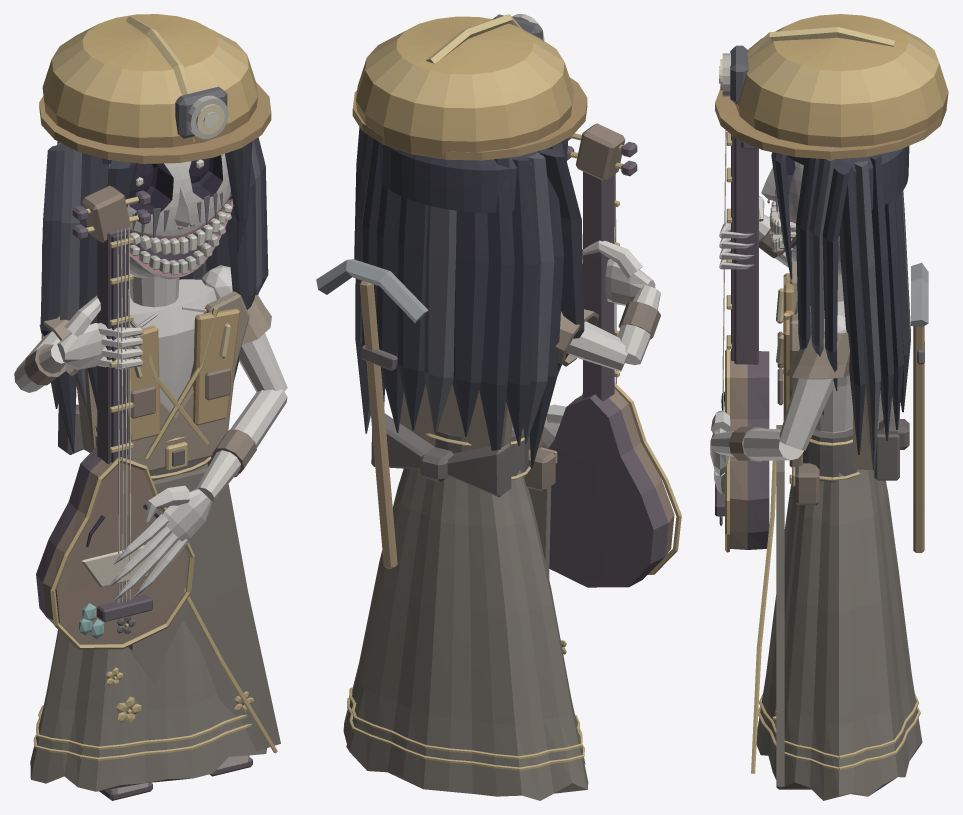
The model's file is MimicMiner.glb.
3 views of the same model, side by side, from view 1: azimuth 30°, elevation 25°; view 2: azimuth 150°, elevation 25°; view 3: azimuth 270°, elevation 25° (orthographic).
Parts seen in each view (by area): view 1: Body, Head, ArmL, ArmR, LegR, LegL; view 2: Body, Head, ArmR; view 3: Body, Head, ArmL, ArmR.
Part boxes in pixels (x1,y1,x2,y2): Body: (30, 185, 280, 791); Head: (39, 14, 271, 452); ArmL: (107, 265, 287, 602); ArmR: (14, 296, 143, 392); LegR: (99, 782, 152, 800); LegL: (209, 755, 252, 776); Body: (316, 123, 681, 800); Head: (352, 14, 587, 468); ArmR: (555, 240, 660, 371); Body: (715, 130, 928, 800); Head: (715, 14, 948, 469); ArmL: (710, 311, 849, 495); ArmR: (719, 196, 788, 269).
Size of the model in its own units: 3.1 by 7.85 by 2.33.
